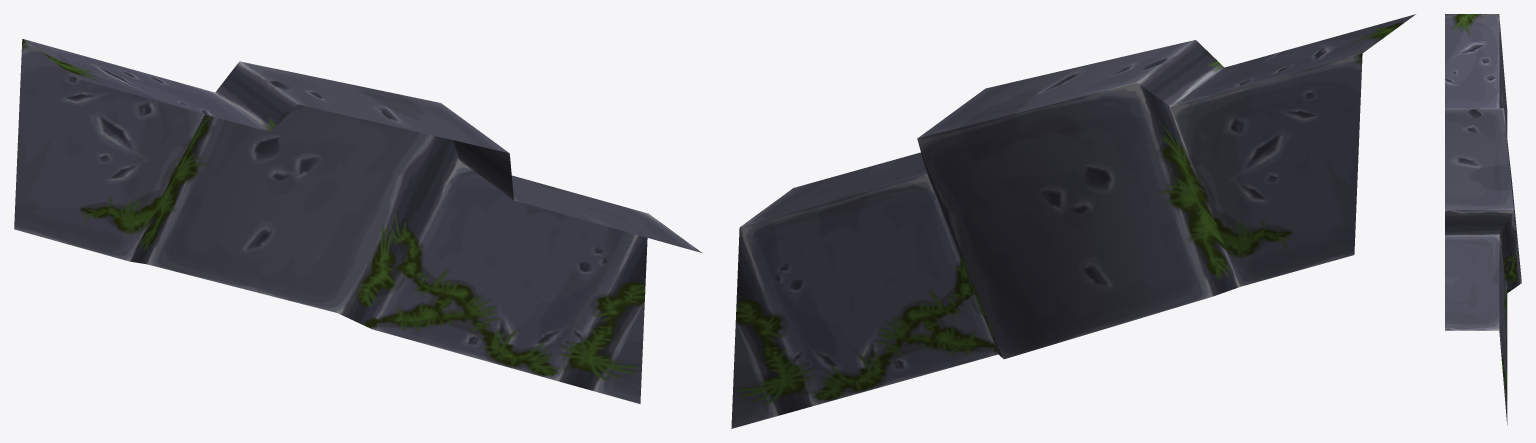
The model's file is MOD_Stairs_01_WallTrim_R_4.fbx.
The picture shows the model from 3 angles, left to right: view 1: azimuth 30°, elevation 25°; view 2: azimuth 150°, elevation 25°; view 3: azimuth 270°, elevation 25°; orthographic projection. The views are drawn at different scales.
Visible parts, largest first — view 1: MOD_Stairs_01_WallTrim_R_4; view 2: MOD_Stairs_01_WallTrim_R_4; view 3: MOD_Stairs_01_WallTrim_R_4.
Part boxes in pixels (box(x1,y1,x2,y2)): MOD_Stairs_01_WallTrim_R_4: box(14, 39, 701, 403); MOD_Stairs_01_WallTrim_R_4: box(731, 14, 1415, 428); MOD_Stairs_01_WallTrim_R_4: box(1445, 14, 1521, 424).
Size of what is drawn, in the model's own units: 200 by 160 by 42.5.
